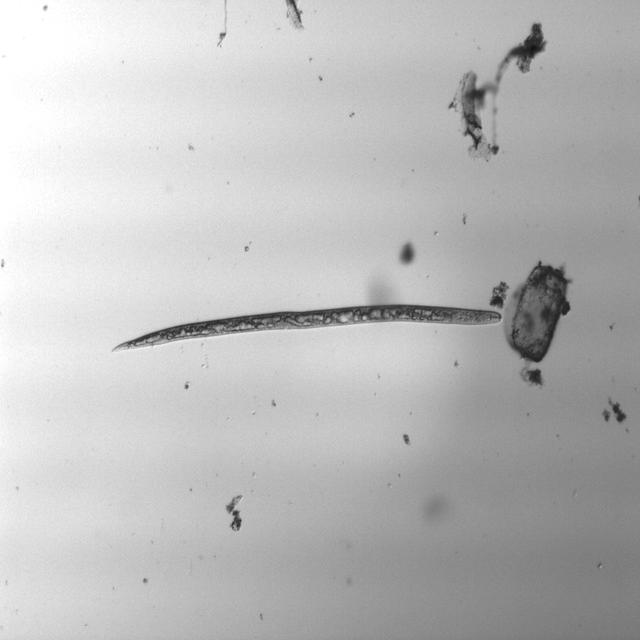Radopholus: (103, 296, 508, 358)
